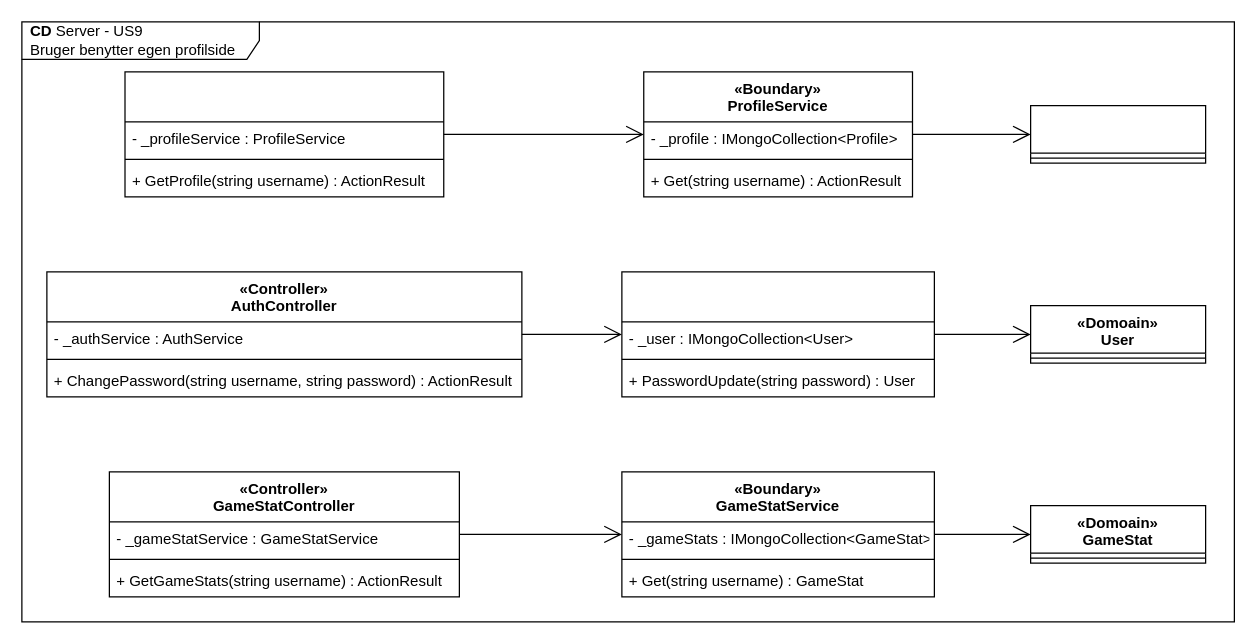
Image size: 1256x644. Some labels were removed from this diagram. Each missing label, with the box of its shape:
«Boundary» AuthService: (621, 271, 934, 397)
«Controller» ProfileController: (124, 71, 444, 197)
«Domoain» Profile: (1029, 104, 1206, 163)
